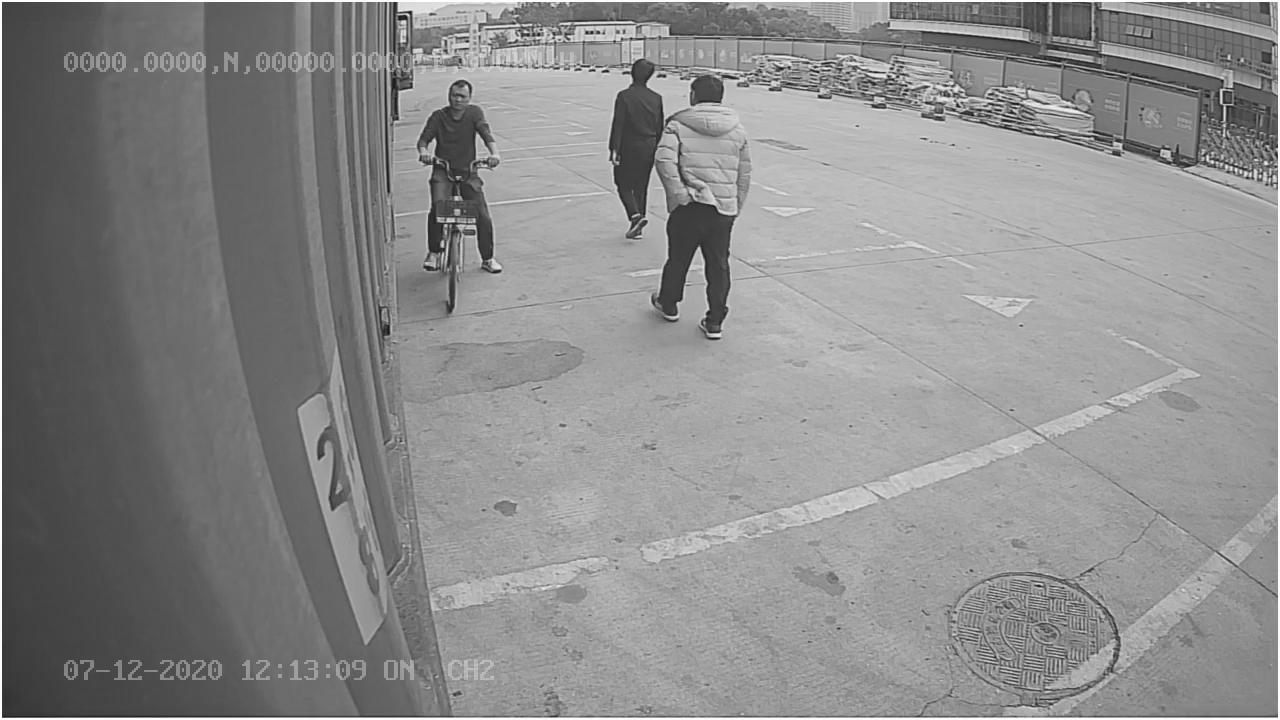person: (647, 73, 755, 339)
